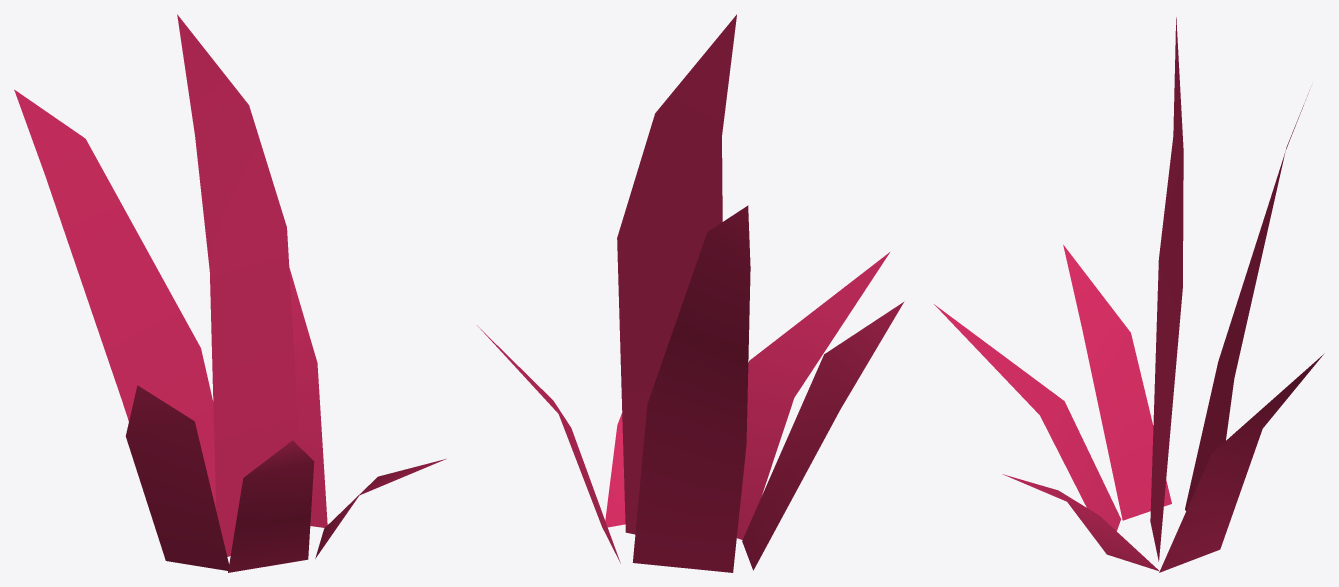
The model's file is Forest_Grass_03.fbx.
3 views of the same model, side by side, from view 1: azimuth 30°, elevation 25°; view 2: azimuth 150°, elevation 25°; view 3: azimuth 270°, elevation 25° (orthographic). The views are drawn at different scales.
Parts seen in each view (by area): view 1: Forest_Grass_03; view 2: Forest_Grass_03; view 3: Forest_Grass_03.
Boxes of the visible parts, x1=… form: Forest_Grass_03: x1=14, y1=14, x2=446, y2=572; Forest_Grass_03: x1=477, y1=14, x2=904, y2=572; Forest_Grass_03: x1=934, y1=17, x2=1324, y2=572.
Bounding box in the file's own units: 13.35 × 24.99 × 17.89.
